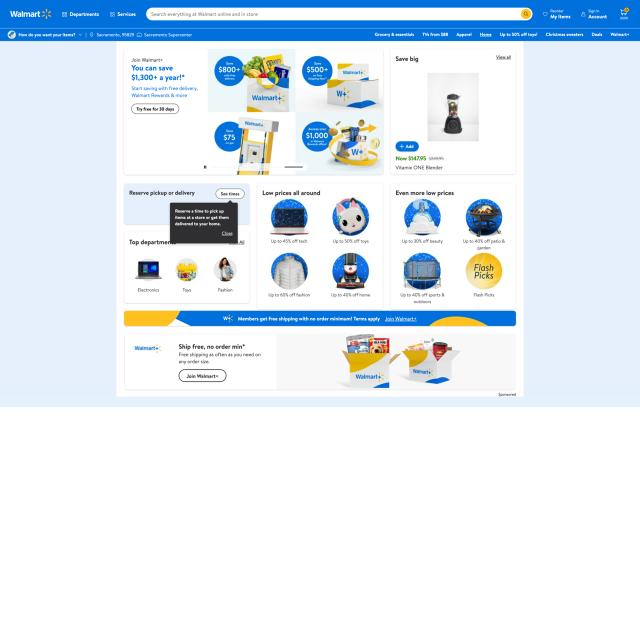input: (145, 7, 532, 20)
logo: (8, 9, 54, 20)
navigation: (374, 30, 631, 40), (61, 10, 137, 19)
progress bar: (201, 162, 307, 172)
